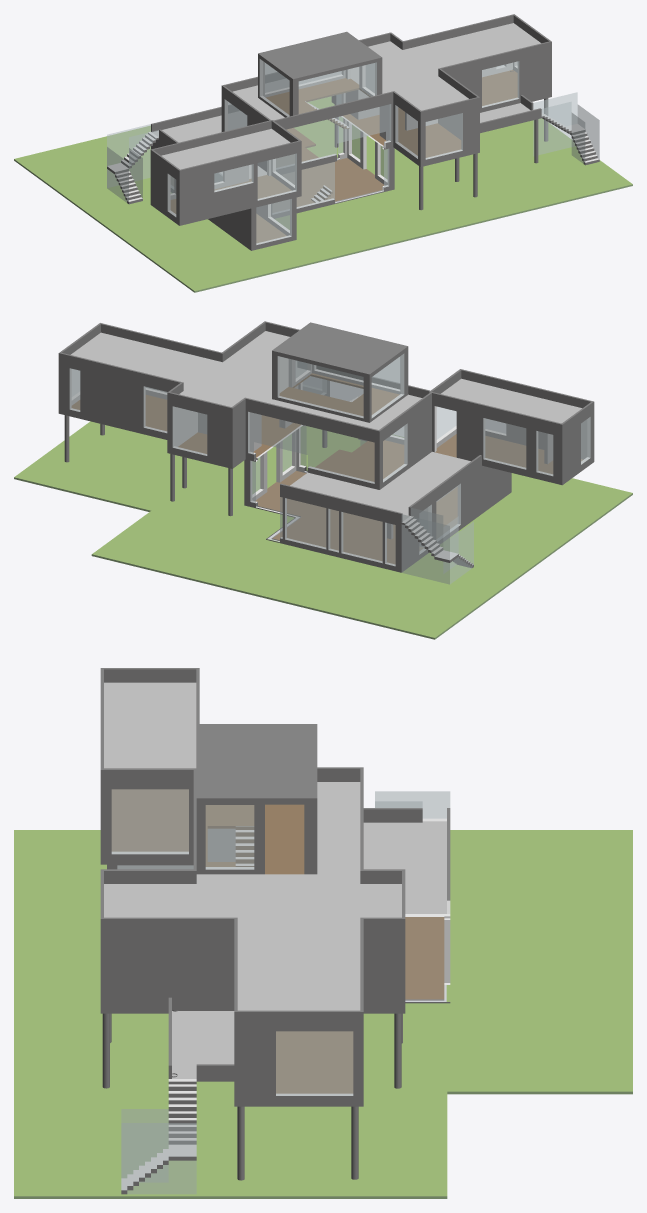
Rendered from SM_Villa.glb.
3 renders of one model, top to bottom at view 1: azimuth 30°, elevation 25°; view 2: azimuth 150°, elevation 25°; view 3: azimuth 270°, elevation 25°, orthographic. The views are drawn at different scales.
Parts seen in each view (by area): view 1: SM_Villa; view 2: SM_Villa; view 3: SM_Villa.
Boxes of the visible parts, x1,y1,x2,y2 form: SM_Villa: [14, 14, 632, 292]; SM_Villa: [14, 321, 632, 639]; SM_Villa: [14, 668, 632, 1198].
Bounding box in the file's own units: 17 × 5.1 × 12.14.
